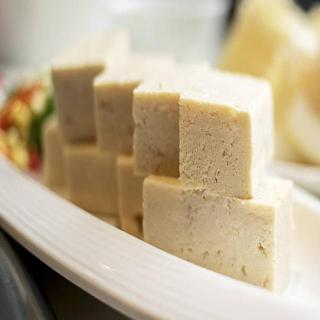Tahu: (40, 24, 304, 296)
